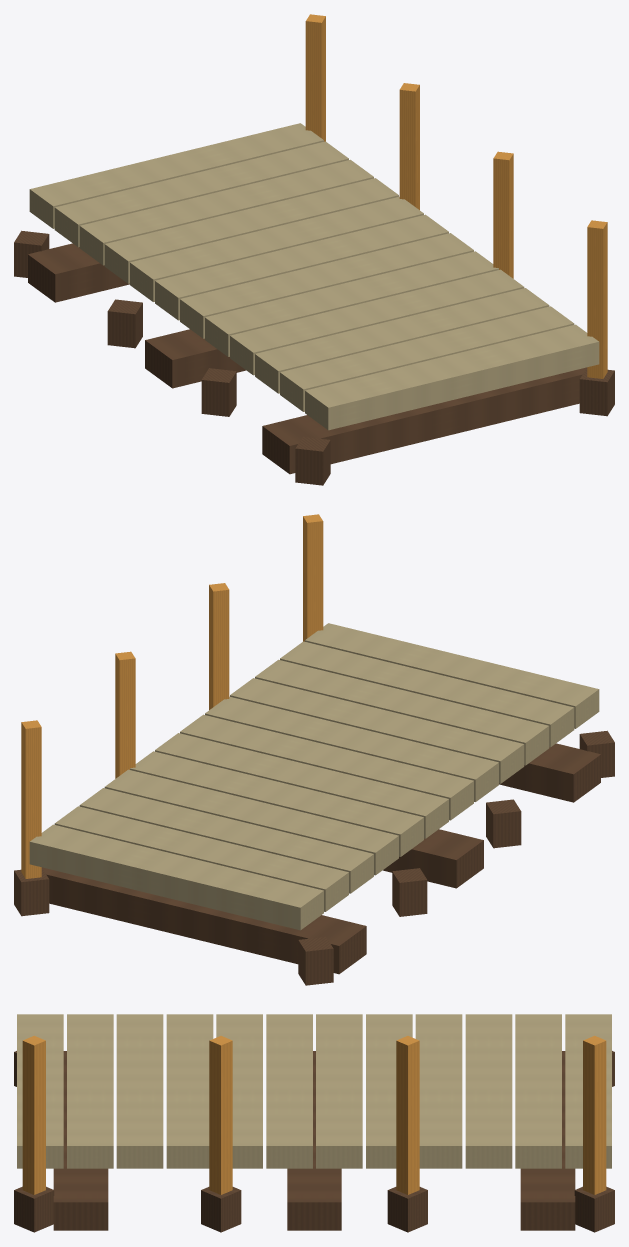
File: atlas100-s020-a01.lod2.glb
3 renders of one model, top to bottom at view 1: azimuth 30°, elevation 25°; view 2: azimuth 150°, elevation 25°; view 3: azimuth 270°, elevation 25°, orthographic.
Parts seen in each view (by area): view 1: atlas100-s020-a01:part-011, atlas100-s020-a01:part-032, atlas100-s020-a01:part-002, atlas100-s020-a01:part-003, atlas100-s020-a01:part-001, atlas100-s020-a01:part-000, atlas100-s020-a01:part-009, atlas100-s020-a01:part-010, atlas100-s020-a01:part-008, atlas100-s020-a01:part-006, atlas100-s020-a01:part-005, atlas100-s020-a01:part-007 (+12 smaller); view 2: atlas100-s020-a01:part-000, atlas100-s020-a01:part-030, atlas100-s020-a01:part-008, atlas100-s020-a01:part-009, atlas100-s020-a01:part-010, atlas100-s020-a01:part-011, atlas100-s020-a01:part-001, atlas100-s020-a01:part-002, atlas100-s020-a01:part-003, atlas100-s020-a01:part-005, atlas100-s020-a01:part-006, atlas100-s020-a01:part-004 (+12 smaller); view 3: atlas100-s020-a01:part-002, atlas100-s020-a01:part-009, atlas100-s020-a01:part-001, atlas100-s020-a01:part-005, atlas100-s020-a01:part-006, atlas100-s020-a01:part-010, atlas100-s020-a01:part-003, atlas100-s020-a01:part-008, atlas100-s020-a01:part-004, atlas100-s020-a01:part-007, atlas100-s020-a01:part-000, atlas100-s020-a01:part-011 (+11 smaller).
Part boxes in pixels (left/top/right/bottom): atlas100-s020-a01:part-011: left=305, top=324, right=599, bottom=430; atlas100-s020-a01:part-032: left=262, top=367, right=586, bottom=474; atlas100-s020-a01:part-002: left=79, top=159, right=373, bottom=265; atlas100-s020-a01:part-003: left=104, top=178, right=398, bottom=283; atlas100-s020-a01:part-001: left=54, top=141, right=348, bottom=247; atlas100-s020-a01:part-000: left=29, top=123, right=323, bottom=228; atlas100-s020-a01:part-009: left=255, top=288, right=549, bottom=393; atlas100-s020-a01:part-010: left=280, top=306, right=574, bottom=411; atlas100-s020-a01:part-008: left=230, top=269, right=524, bottom=375; atlas100-s020-a01:part-006: left=180, top=233, right=473, bottom=338; atlas100-s020-a01:part-005: left=155, top=214, right=448, bottom=320; atlas100-s020-a01:part-007: left=205, top=251, right=498, bottom=356; atlas100-s020-a01:part-000: left=29, top=824, right=323, bottom=930; atlas100-s020-a01:part-030: left=42, top=867, right=366, bottom=974; atlas100-s020-a01:part-008: left=230, top=678, right=524, bottom=783; atlas100-s020-a01:part-009: left=255, top=659, right=549, bottom=765; atlas100-s020-a01:part-010: left=280, top=641, right=574, bottom=747; atlas100-s020-a01:part-011: left=305, top=623, right=599, bottom=728; atlas100-s020-a01:part-001: left=54, top=806, right=348, bottom=911; atlas100-s020-a01:part-002: left=79, top=788, right=373, bottom=893; atlas100-s020-a01:part-003: left=104, top=769, right=398, bottom=875; atlas100-s020-a01:part-005: left=155, top=733, right=448, bottom=838; atlas100-s020-a01:part-006: left=180, top=714, right=473, bottom=820; atlas100-s020-a01:part-004: left=130, top=751, right=423, bottom=856; atlas100-s020-a01:part-002: left=465, top=1014, right=512, bottom=1168; atlas100-s020-a01:part-009: left=116, top=1014, right=163, bottom=1168; atlas100-s020-a01:part-001: left=515, top=1014, right=561, bottom=1168; atlas100-s020-a01:part-005: left=316, top=1014, right=362, bottom=1168; atlas100-s020-a01:part-006: left=266, top=1014, right=312, bottom=1168; atlas100-s020-a01:part-010: left=67, top=1014, right=113, bottom=1168; atlas100-s020-a01:part-003: left=415, top=1014, right=462, bottom=1168; atlas100-s020-a01:part-008: left=166, top=1014, right=213, bottom=1168; atlas100-s020-a01:part-004: left=366, top=1014, right=412, bottom=1168; atlas100-s020-a01:part-007: left=216, top=1014, right=262, bottom=1168; atlas100-s020-a01:part-000: left=565, top=1014, right=611, bottom=1168; atlas100-s020-a01:part-011: left=17, top=1014, right=63, bottom=1168.
Bounding box in the file's own units: 2.36 × 1.3 × 3.86.
Materials: 3 (3 with a texture image).
